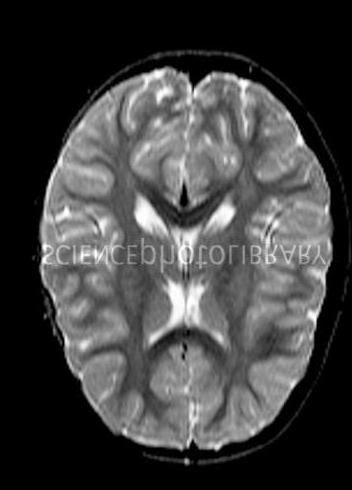Normal_Brain: (21, 26, 352, 490)
